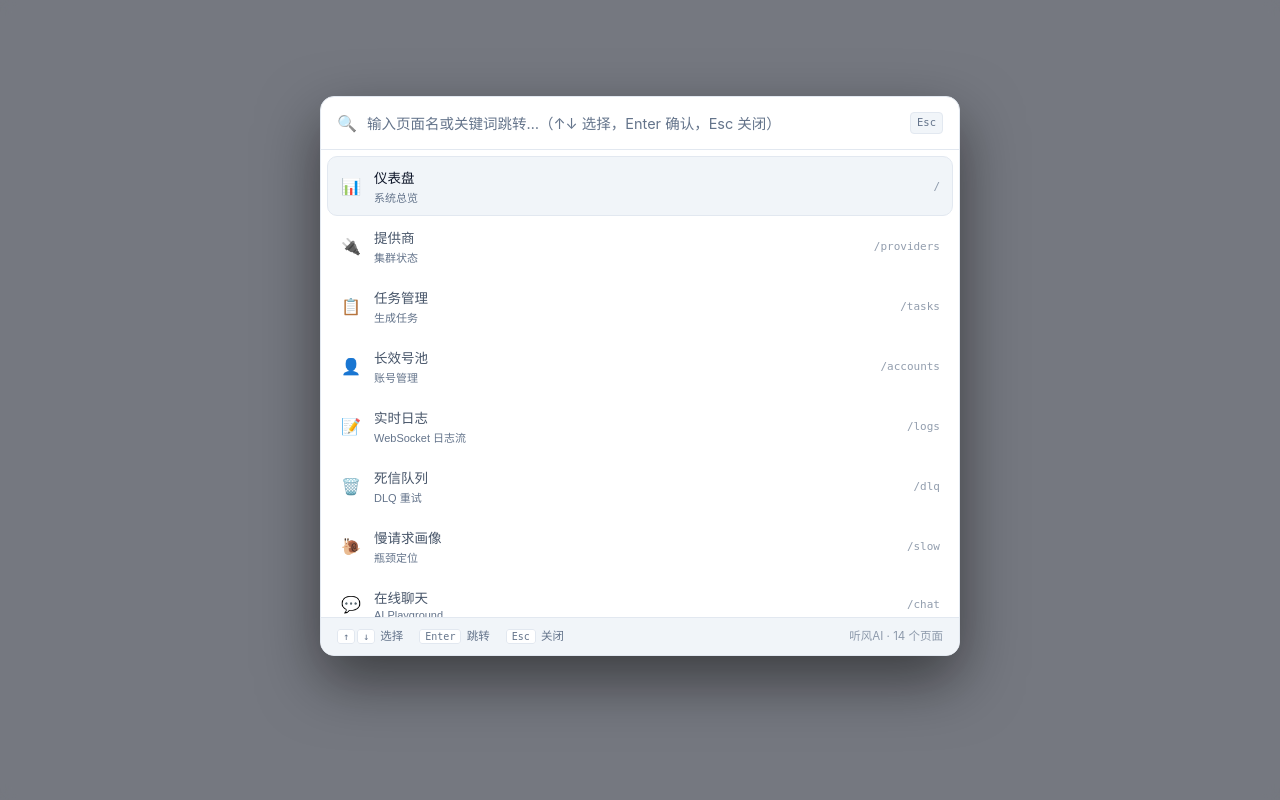
Test case: CommandPalette › 无匹配时显示"无匹配页面"
The image size is (1280, 800).
Type "zzzzzzz" into the field with placeholder "输入页面名或关键词跳转…（↑↓ 选择，Enter 确认，Esc 关闭）". click: (634, 123)
box: 367,114 -> 900,132
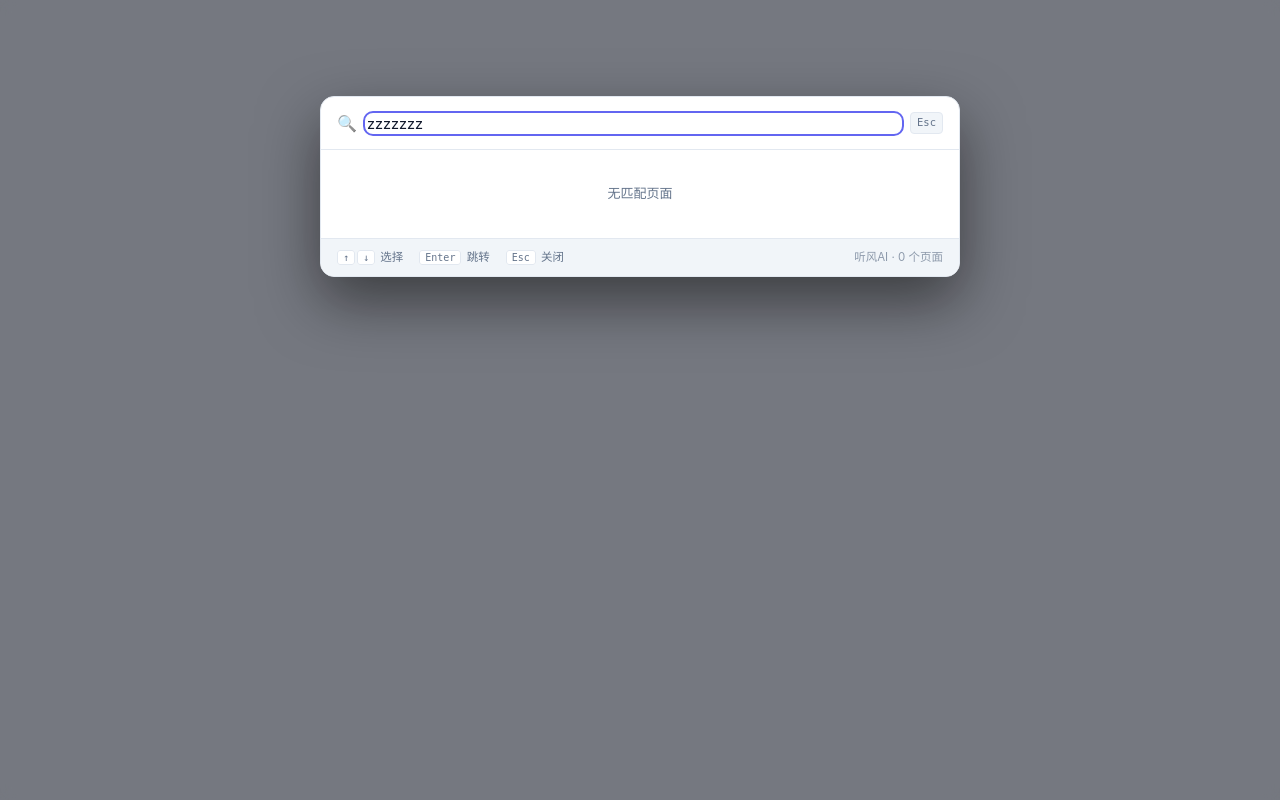
Now the text "无匹配页面" is shown, box 608,185 -> 672,201
